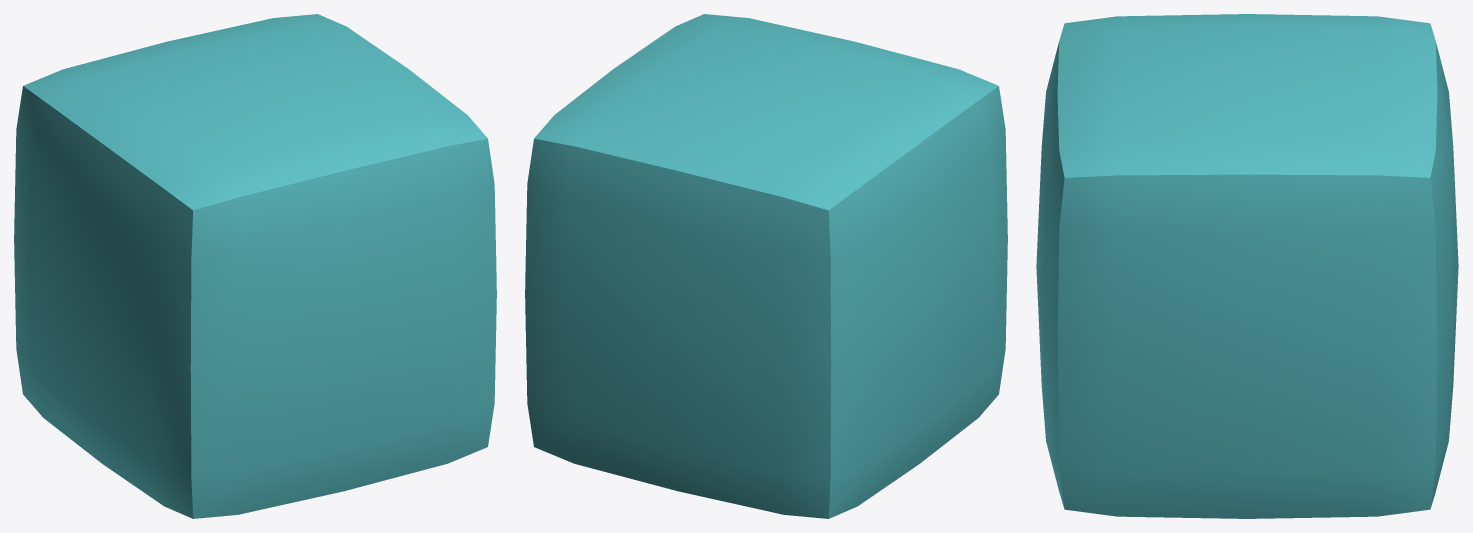
File: MOD_BAR IceCube.fbx
The picture shows the model from 3 angles, left to right: view 1: azimuth 30°, elevation 25°; view 2: azimuth 150°, elevation 25°; view 3: azimuth 270°, elevation 25°; orthographic projection. The views are drawn at different scales.
Visible parts, largest first — view 1: ice_cube; view 2: ice_cube; view 3: ice_cube.
Part boxes in pixels (left/top/right/bottom): ice_cube: left=14, top=14, right=496, bottom=518; ice_cube: left=525, top=14, right=1007, bottom=518; ice_cube: left=1036, top=14, right=1458, bottom=518.
Bounding box in the file's own units: 2.97 × 2.97 × 2.97.
